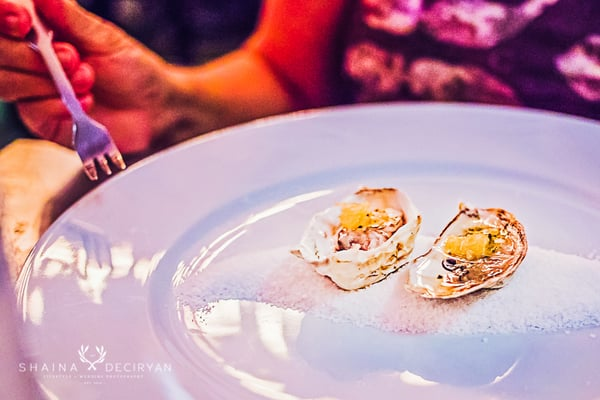sandwich: (294, 185, 423, 292)
